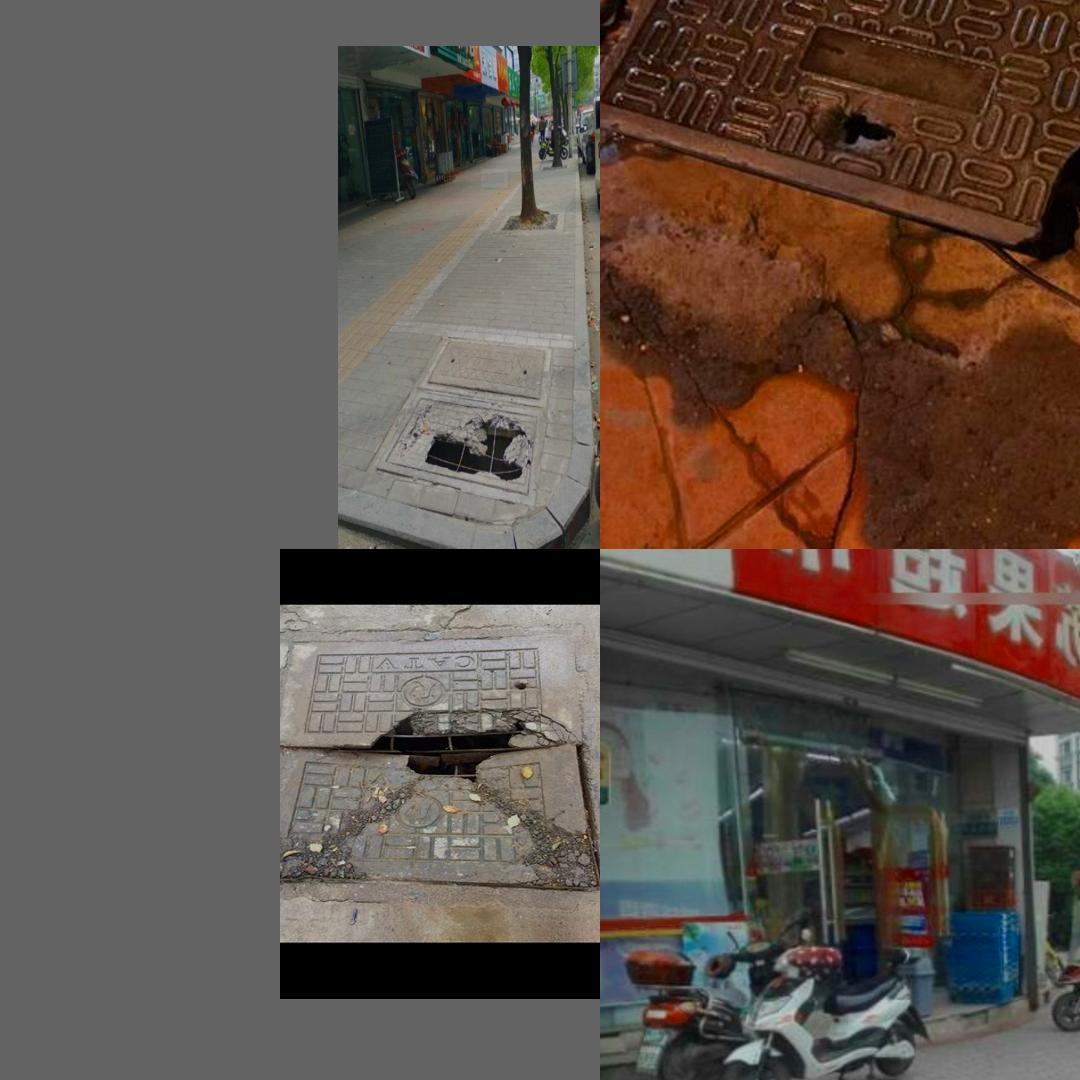broke: (621, 0, 1080, 376), (284, 626, 600, 914), (376, 391, 542, 505)
good: (419, 335, 552, 406)
